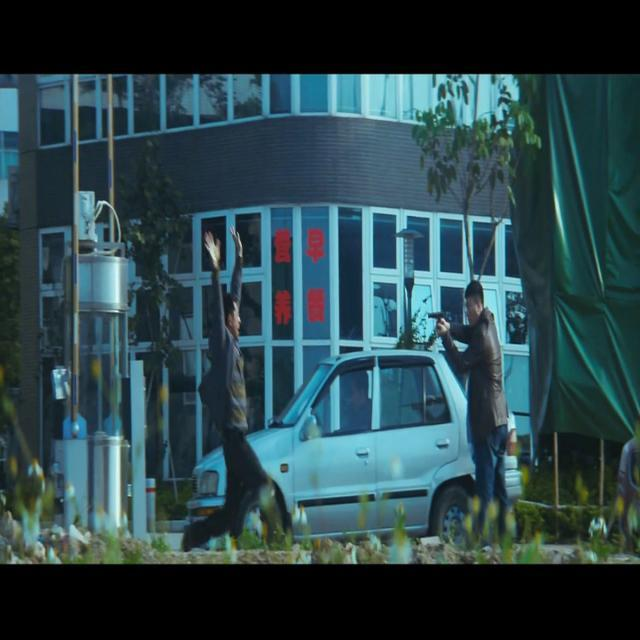gun-knife-thesis - v11 Yolov5 augmented: (422, 308, 447, 334)
